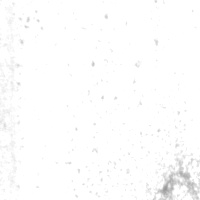pitted_surface: (55, 2, 197, 191)
